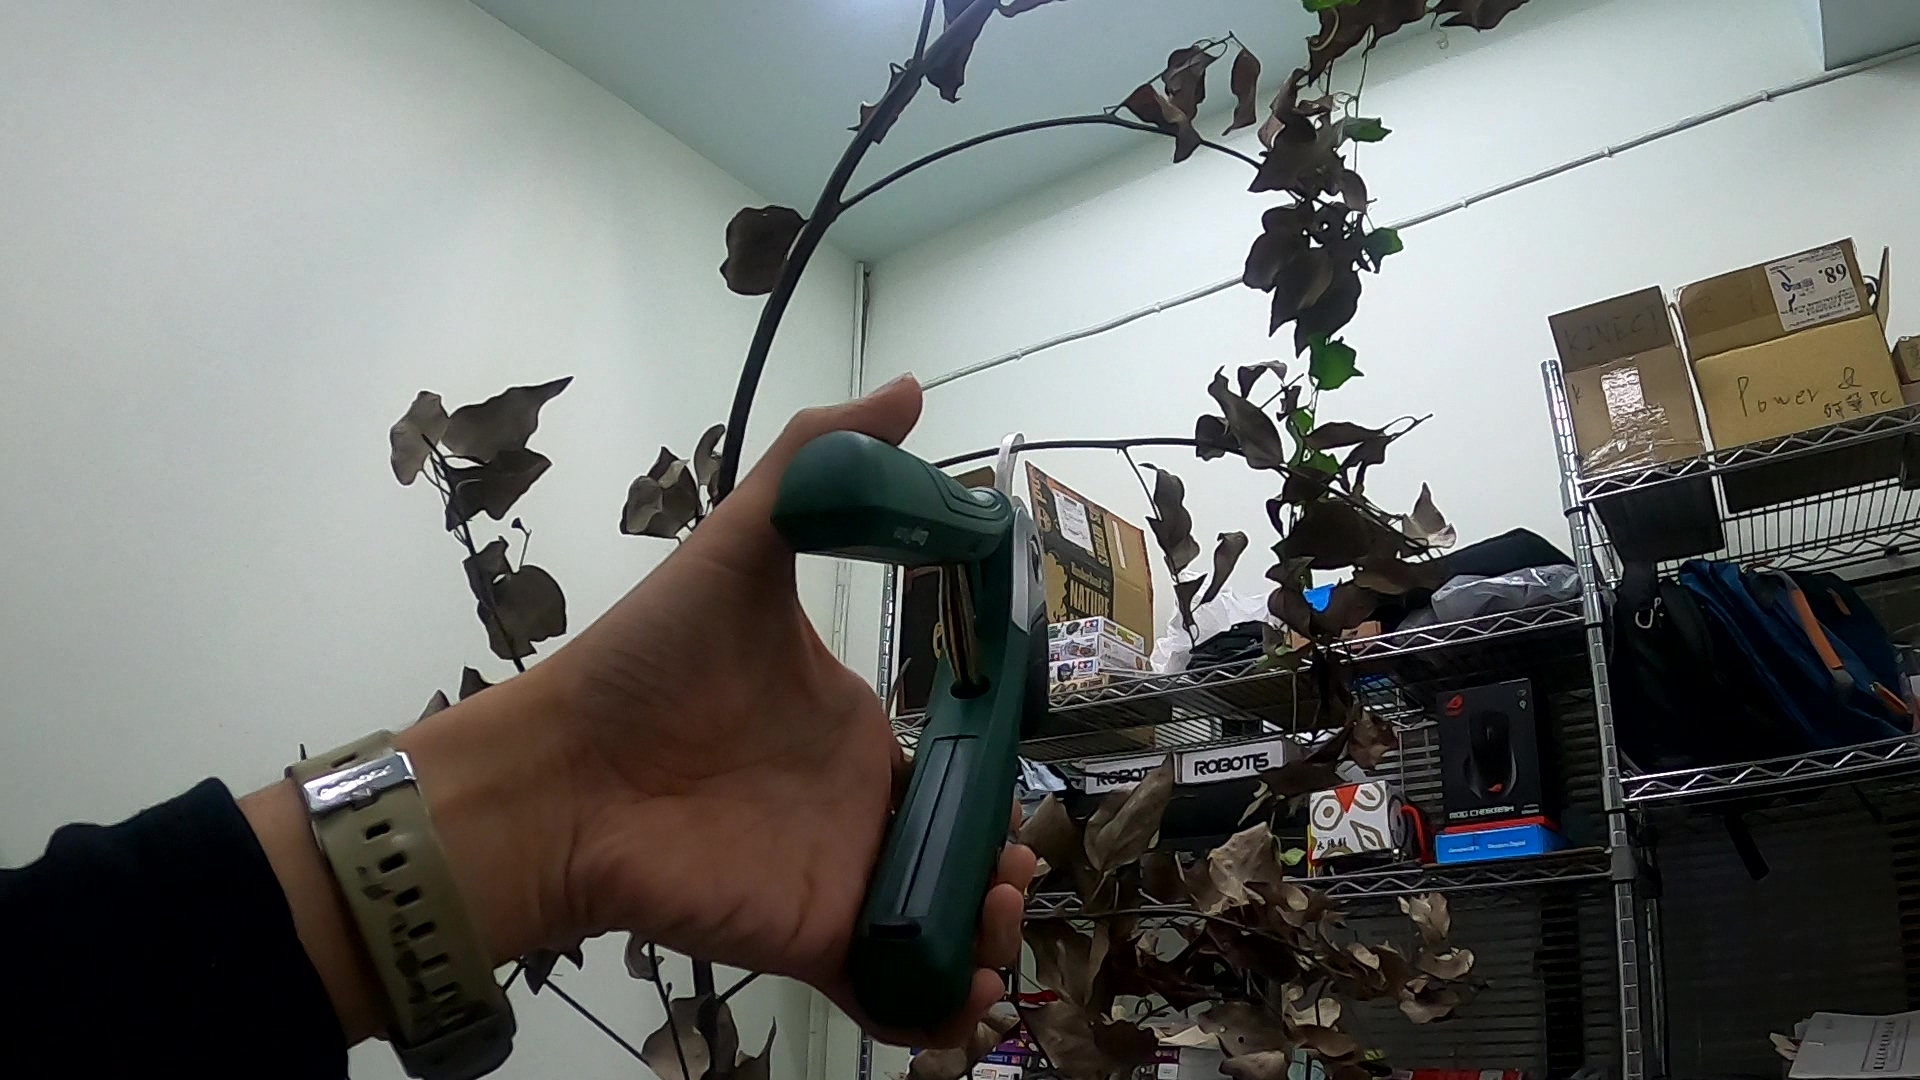ok: (822, 426, 1414, 1009)
scissors: (775, 421, 1055, 1029)
twig: (829, 32, 1415, 225), (401, 411, 525, 671), (1015, 906, 1366, 985), (512, 965, 665, 1080), (632, 944, 690, 1080), (915, 4, 938, 65)
